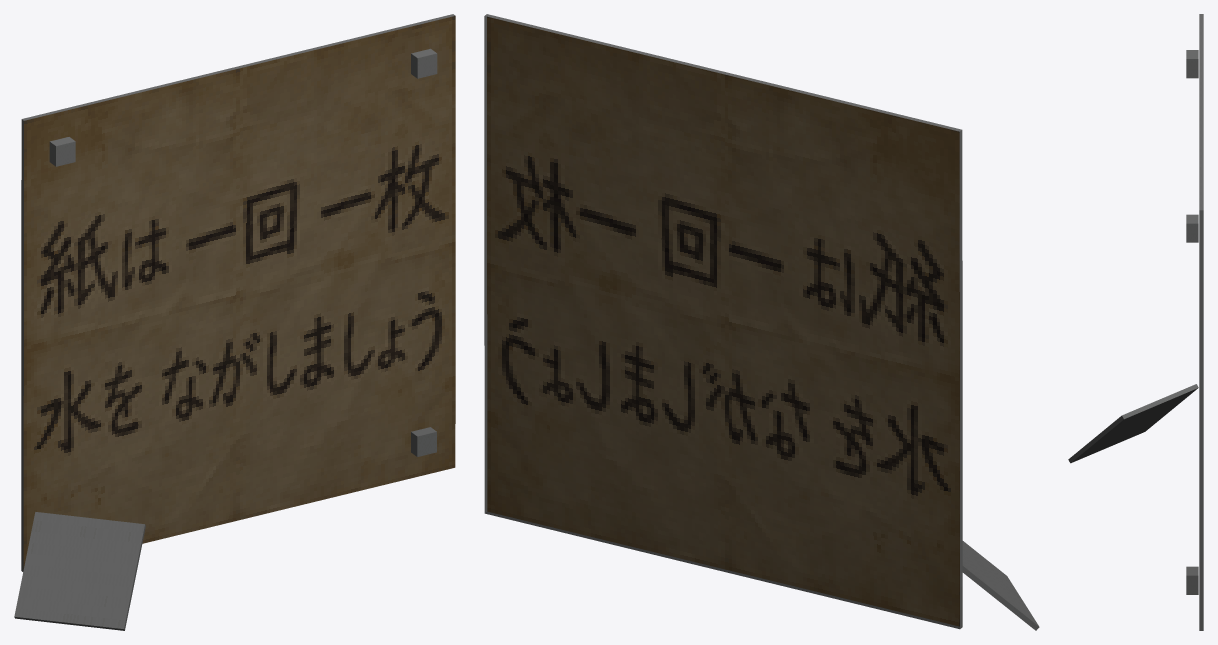
The model's file is prop_poster-toilet-4.glb.
The picture shows the model from 3 angles, left to right: view 1: azimuth 30°, elevation 25°; view 2: azimuth 150°, elevation 25°; view 3: azimuth 270°, elevation 25°; orthographic projection. The views are drawn at different scales.
Parts seen in each view (by area): view 1: prop_poster-toilet-4; view 2: prop_poster-toilet-4; view 3: prop_poster-toilet-4.
Boxes of the visible parts, x1=… form: prop_poster-toilet-4: x1=14, y1=14, x2=455, y2=630; prop_poster-toilet-4: x1=484, y1=14, x2=1039, y2=630; prop_poster-toilet-4: x1=1068, y1=14, x2=1203, y2=630.
Size of the model in its own units: 0.3356 by 0.3177 by 0.0897.
2 materials, 2 textured.
